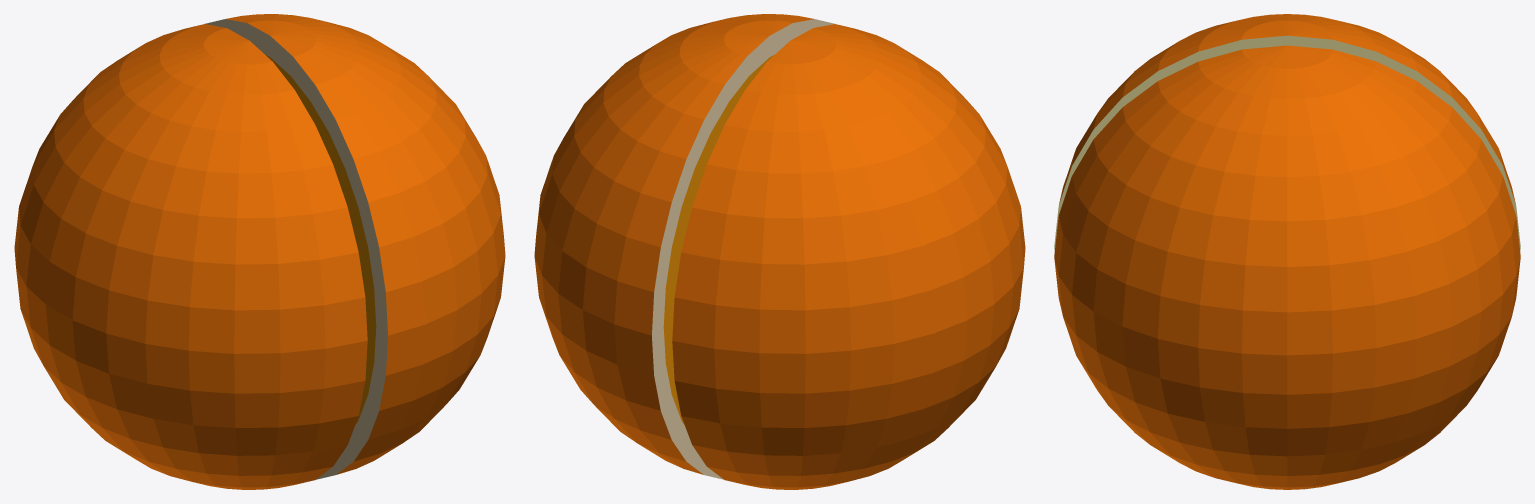
The picture shows the model from 3 angles, left to right: view 1: azimuth 30°, elevation 25°; view 2: azimuth 150°, elevation 25°; view 3: azimuth 270°, elevation 25°; orthographic projection.
Visible parts, largest first — view 1: Orange_Cut_L, Orange_Cut_R; view 2: Orange_Cut_L, Orange_Cut_R; view 3: Orange_Cut_R, Orange_Cut_L.
Part boxes in pixels (x1,y1,x2,y2): Orange_Cut_L: (14, 24, 367, 489); Orange_Cut_R: (205, 14, 505, 479); Orange_Cut_L: (672, 24, 1025, 489); Orange_Cut_R: (534, 14, 834, 479); Orange_Cut_R: (1054, 45, 1520, 489); Orange_Cut_L: (1054, 14, 1520, 250).
Size of the model in its own units: 210 by 200 by 200.
